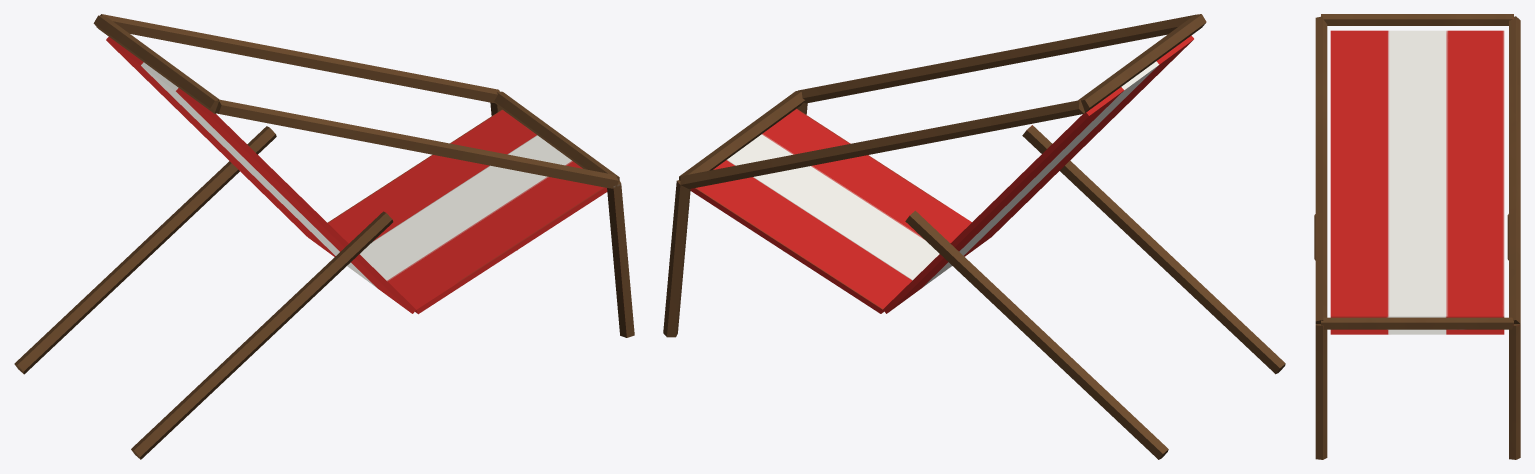
Rendered from lehatko_fcc5460f.glb.
3 renders of one model, left to right at view 1: azimuth 30°, elevation 25°; view 2: azimuth 150°, elevation 25°; view 3: azimuth 270°, elevation 25°, orthographic. The views are drawn at different scales.
Parts seen in each view (by area): view 1: dum; view 2: dum; view 3: dum.
Part boxes in pixels (bbox=[...]): dum: bbox=[14, 14, 634, 459]; dum: bbox=[663, 14, 1285, 459]; dum: bbox=[1314, 14, 1520, 459].
Bounding box in the file's own units: 1.49 × 0.9624 × 0.6383.
1 material, 1 textured.
